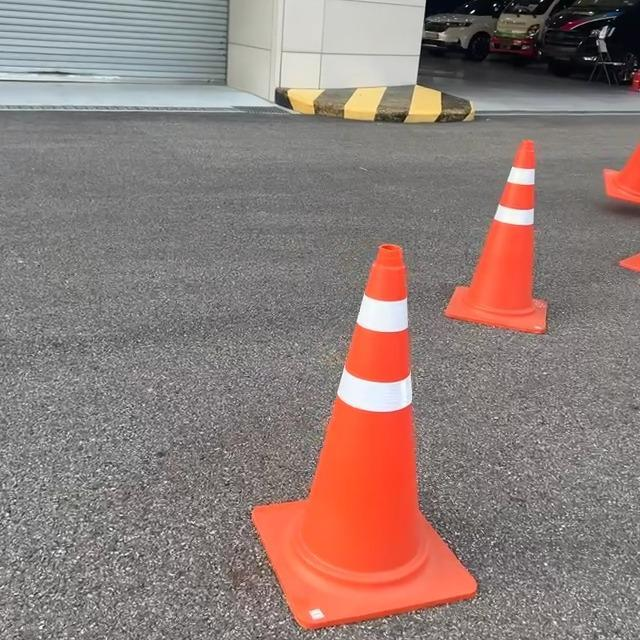fallen_object: (180, 257, 492, 621), (380, 79, 564, 381)
